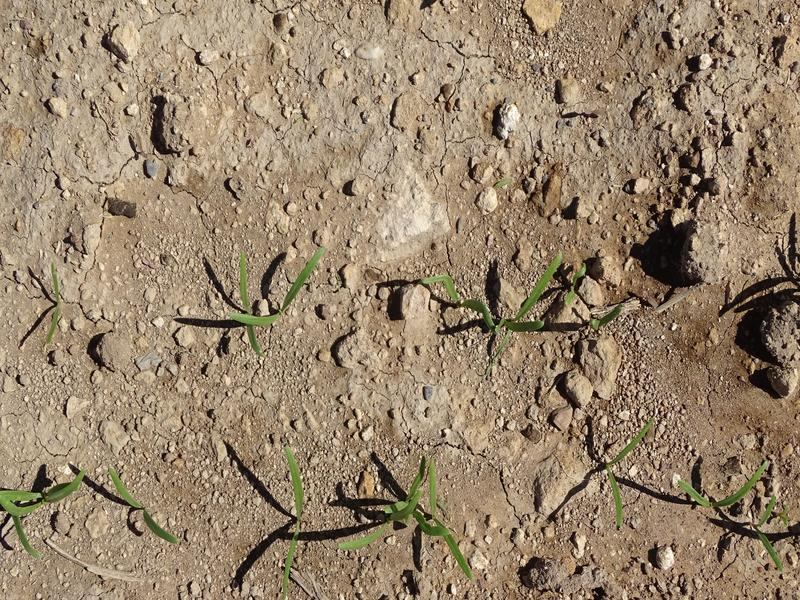Espinaca: (367, 459, 478, 582), (421, 261, 562, 341), (232, 249, 323, 344), (1, 466, 92, 542), (603, 413, 661, 523), (106, 468, 189, 543), (278, 444, 312, 588), (677, 459, 772, 499), (759, 497, 782, 572), (47, 263, 61, 341), (587, 305, 626, 333)
